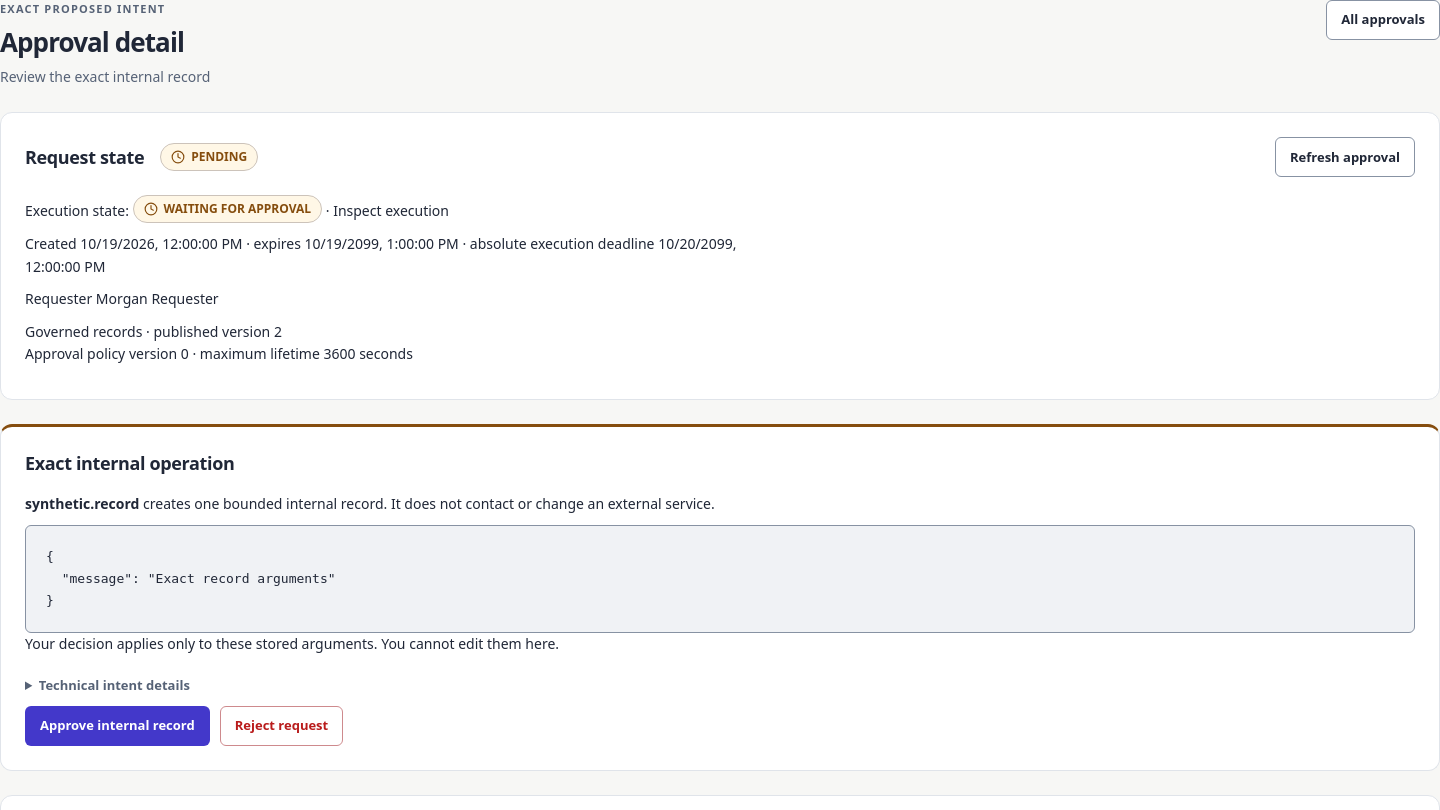
it: commits a confirmed approve decision without pretending the execution succeeded
The width and height of the screenshot is (1440, 810).
Click the button "Approve internal record": (117, 726) [25,706,210,746]
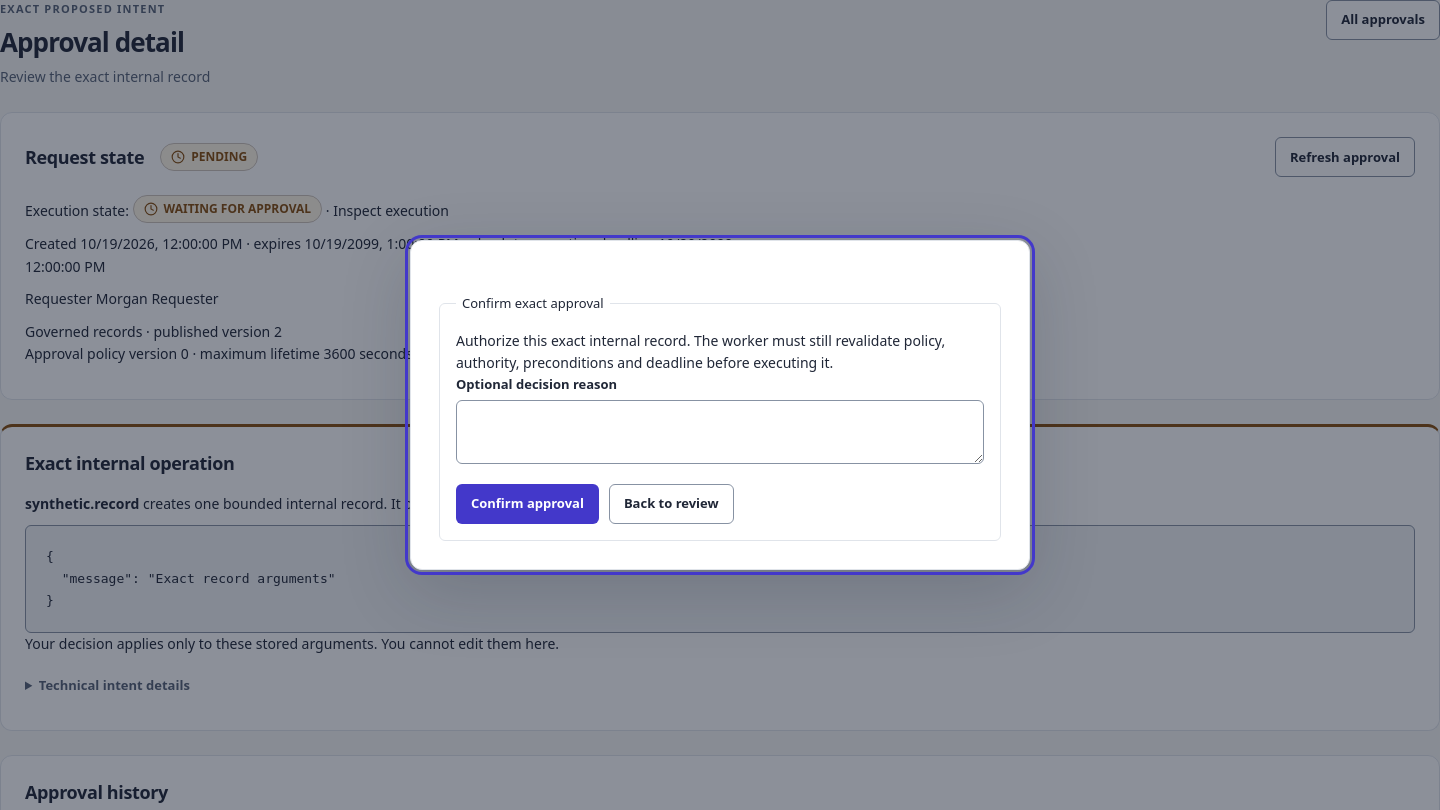
In the text box labelled "Optional decision reason": (720, 432) [456,400,984,464], type "Reviewed"
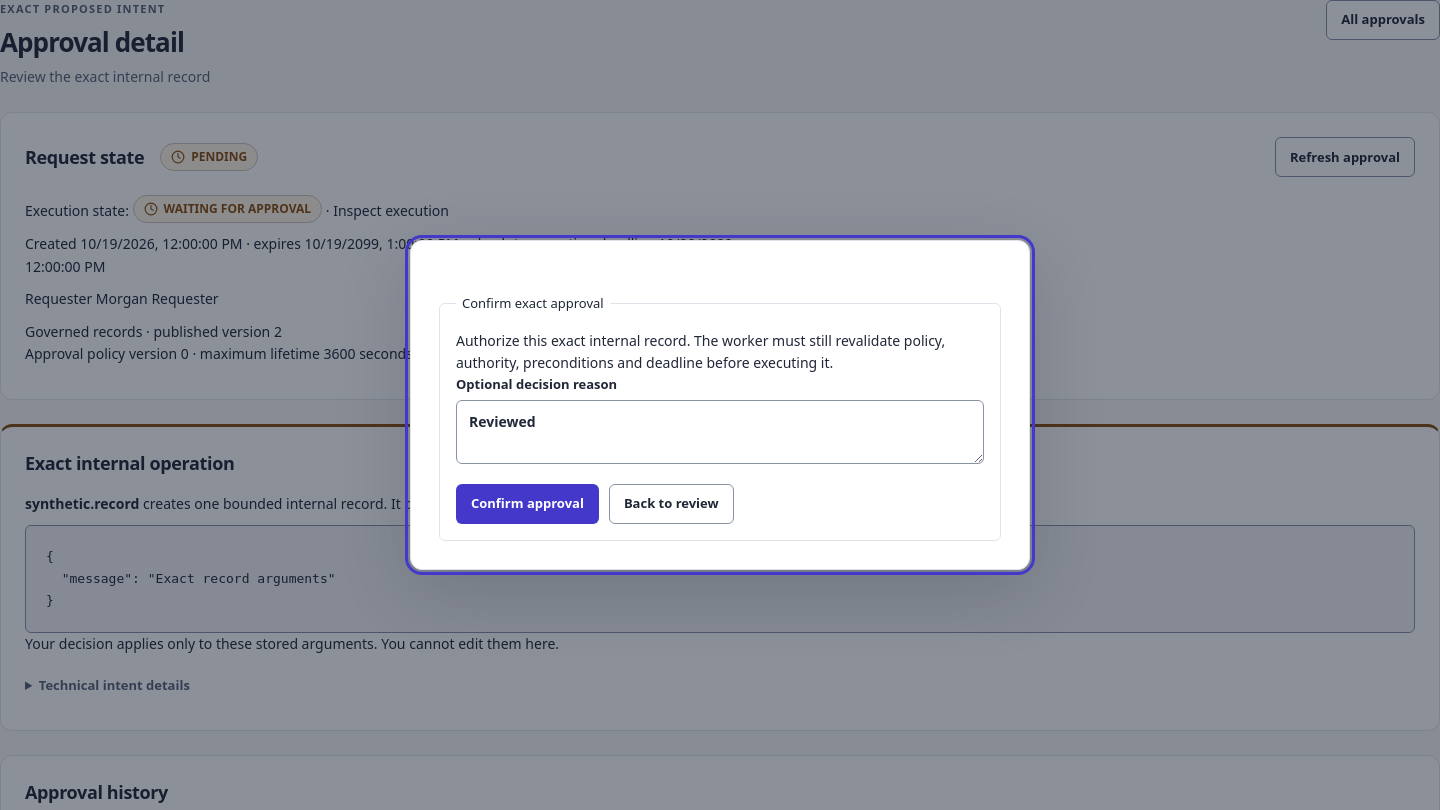
Click the button "Confirm approval": (527, 504) [456,484,599,524]
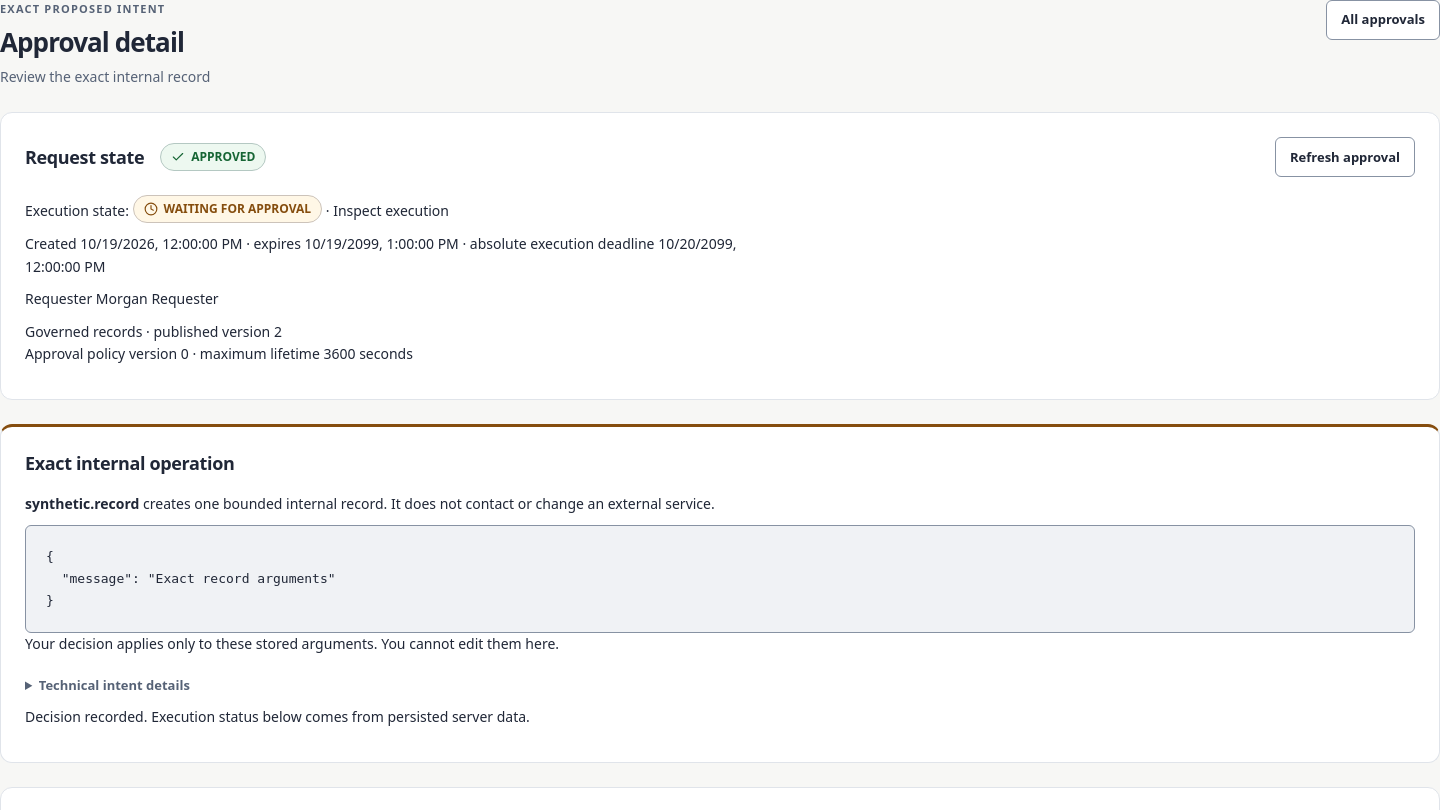
Expected: the text "WAITING FOR APPROVAL" is shown, [164,200,311,218]
Expected: the text "Decision recorded. Execution status below comes from persisted server data." is shown, [25,707,530,726]
